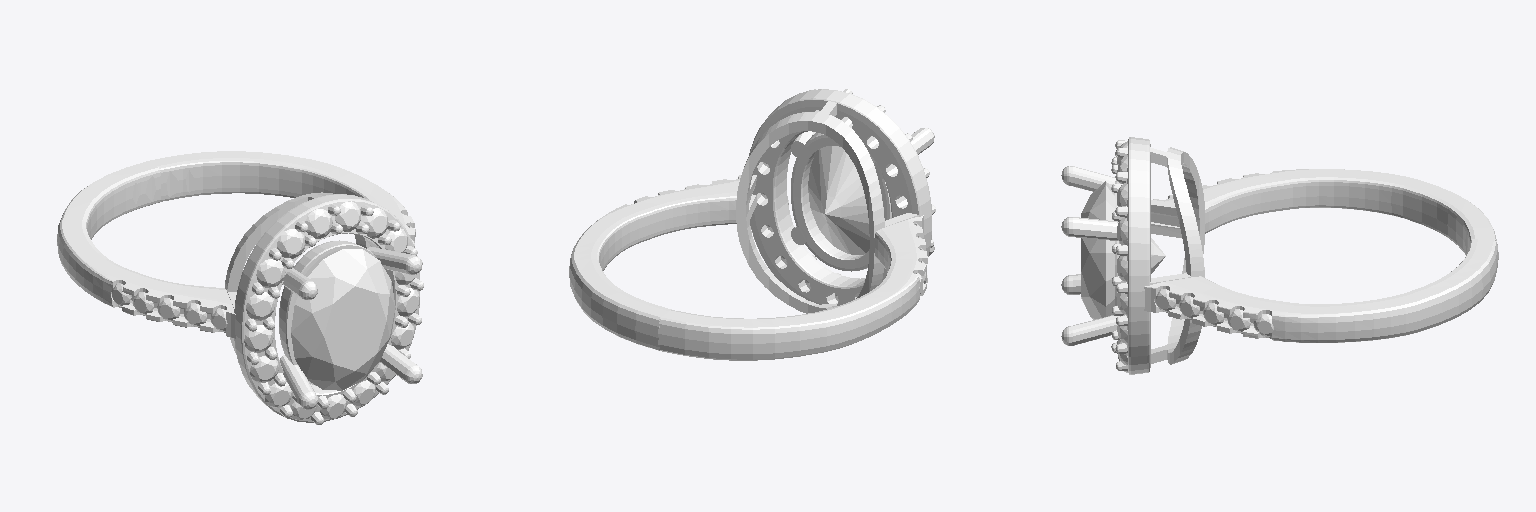
The model's file is svpFile.obj.
3 renders of one model, left to right at view 1: azimuth 30°, elevation 25°; view 2: azimuth 150°, elevation 25°; view 3: azimuth 270°, elevation 25°, orthographic.
Visible parts, largest first — view 1: gold, J_Magent, Diamond; view 2: gold, J_Magent; view 3: gold, J_Magent, Diamond.
Boxes of the visible parts, x1=… form: gold: x1=57, y1=151, x2=423, y2=424; J_Magent: x1=291, y1=249, x2=395, y2=390; Diamond: x1=112, y1=201, x2=419, y2=419; gold: x1=569, y1=89, x2=935, y2=360; J_Magent: x1=808, y1=146, x2=869, y2=254; gold: x1=1061, y1=137, x2=1498, y2=374; J_Magent: x1=1081, y1=181, x2=1165, y2=319; Diamond: x1=1117, y1=141, x2=1273, y2=372.
Bounding box in the file's own units: 20.44 × 13.94 × 25.26.